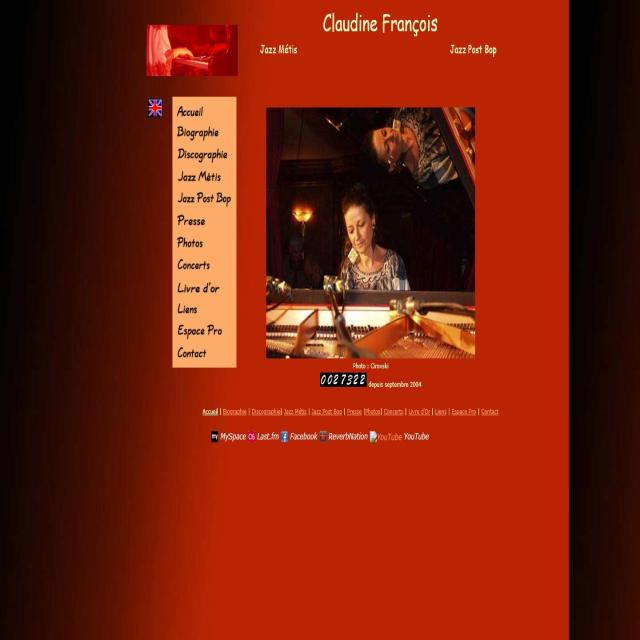button: (368, 429, 431, 444), (318, 430, 368, 444), (207, 430, 247, 445), (280, 431, 318, 444), (248, 429, 280, 444)
heading: (323, 7, 437, 37)
image: (0, 1, 569, 639), (266, 107, 475, 359), (147, 23, 239, 78)
link: (251, 404, 280, 419), (222, 404, 248, 420), (310, 407, 343, 418), (283, 405, 307, 418), (200, 404, 220, 418), (450, 408, 478, 418), (407, 407, 430, 418), (382, 408, 405, 418), (479, 408, 499, 418), (364, 406, 380, 418), (345, 408, 363, 418), (433, 408, 448, 418)
text: (174, 97, 235, 365), (449, 41, 499, 60), (257, 41, 299, 58), (369, 380, 423, 390), (352, 360, 391, 372)
